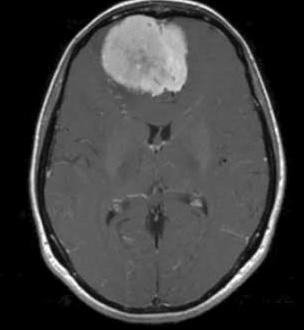Tumour-Meningioma: (93, 15, 206, 130)
